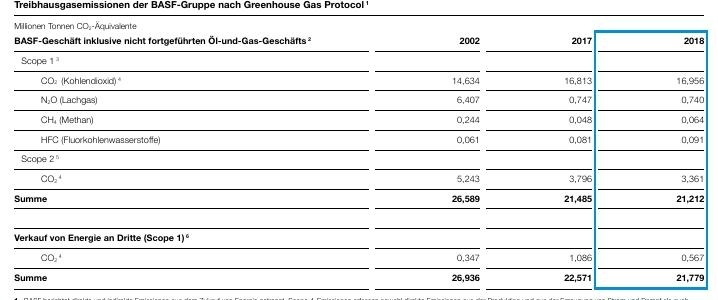table: (0, 0, 718, 300)
